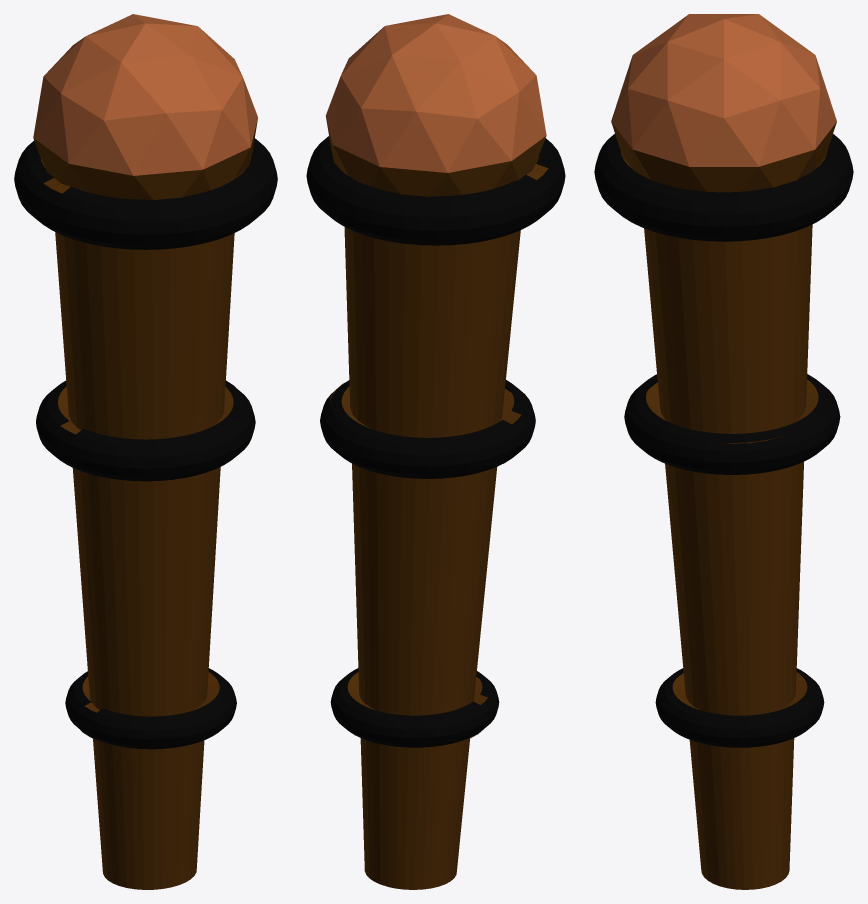
File: Torch.fbx
The picture shows the model from 3 angles, left to right: view 1: azimuth 30°, elevation 25°; view 2: azimuth 150°, elevation 25°; view 3: azimuth 270°, elevation 25°; orthographic projection.
Parts seen in each view (by area): view 1: Cone, Cone.004, Cone.001, Cone.003, Cone.002; view 2: Cone, Cone.004, Cone.001, Cone.003, Cone.002; view 3: Cone, Cone.004, Cone.001, Cone.003, Cone.002.
Part boxes in pixels (box(x1,y1,x2,y2)): Cone: box(33, 119, 257, 889); Cone.004: box(33, 14, 257, 175); Cone.001: box(14, 138, 277, 249); Cone.003: box(36, 380, 255, 481); Cone.002: box(65, 668, 236, 749); Cone: box(326, 117, 548, 889); Cone.004: box(325, 14, 546, 172); Cone.001: box(306, 136, 565, 245); Cone.003: box(320, 380, 535, 478); Cone.002: box(330, 668, 499, 747); Cone: box(611, 122, 836, 889); Cone.004: box(611, 14, 836, 166); Cone.001: box(594, 134, 853, 241); Cone.003: box(624, 374, 840, 474); Cone.002: box(655, 668, 824, 747).
Bounding box in the file's own units: 31.63 × 114 × 31.63.
